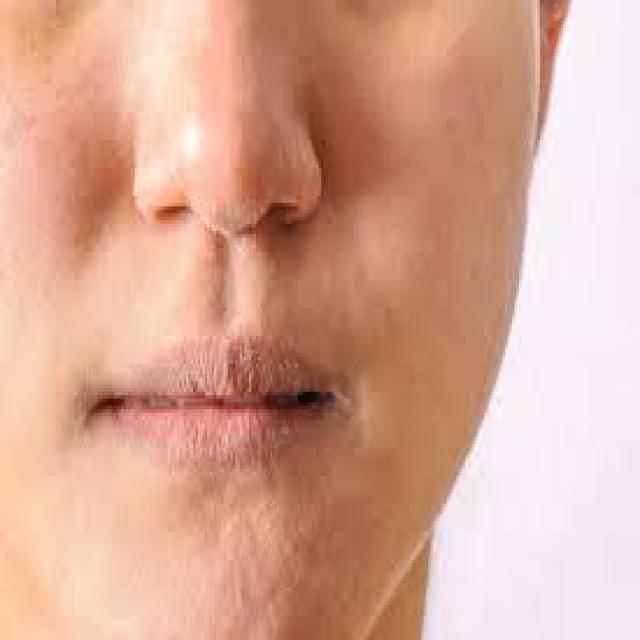Dry-Skin: (56, 131, 124, 210), (266, 524, 320, 600), (212, 187, 262, 248), (342, 536, 382, 598), (346, 73, 376, 135)
